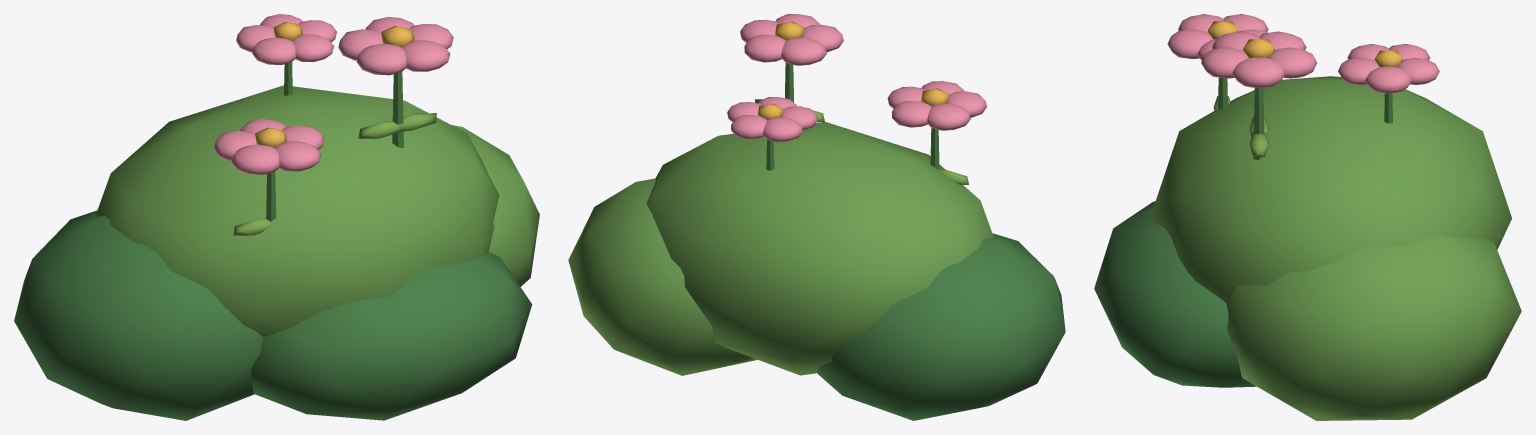
Rendered from bush_flower_mix_01.glb.
The picture shows the model from 3 angles, left to right: view 1: azimuth 30°, elevation 25°; view 2: azimuth 150°, elevation 25°; view 3: azimuth 270°, elevation 25°; orthographic projection. The views are drawn at different scales.
Visible parts, largest first — view 1: bush_flower_mix_01; view 2: bush_flower_mix_01; view 3: bush_flower_mix_01.
Boxes of the visible parts, x1,y1,x2,y2 form: bush_flower_mix_01: [14, 14, 539, 420]; bush_flower_mix_01: [568, 14, 1065, 420]; bush_flower_mix_01: [1094, 14, 1521, 420].
Bounding box in the file's own units: 0.7854 × 0.5367 × 0.594.
